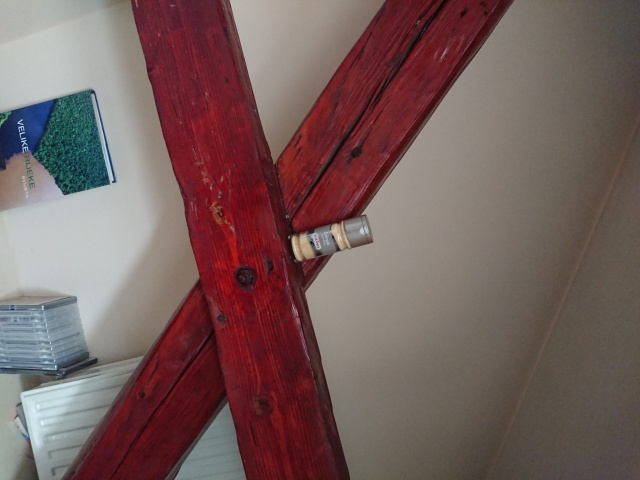Kotanyi Garlic Granules 70g: (284, 212, 375, 265)
